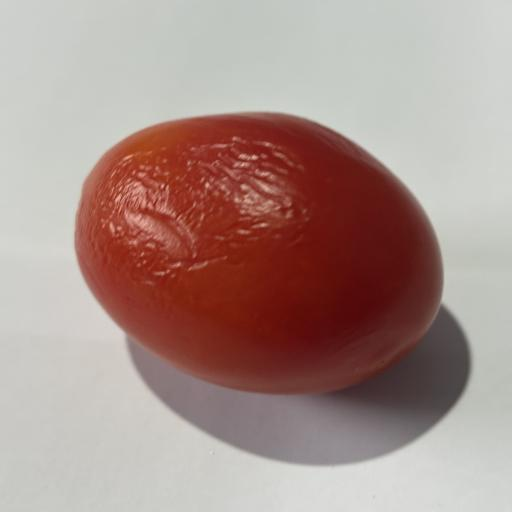spoiled: (75, 113, 442, 393)
